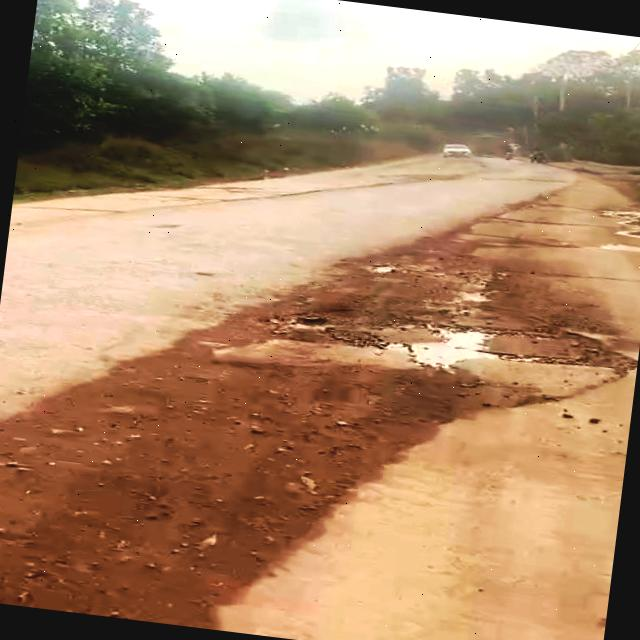pothole: (359, 302, 640, 401)
